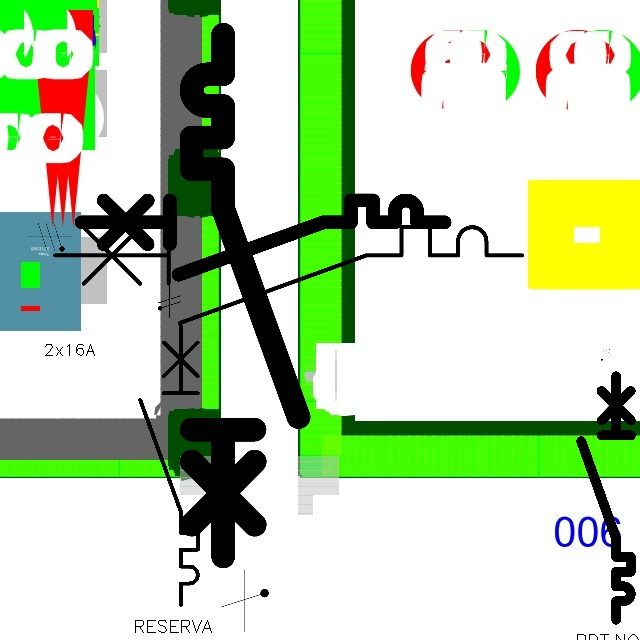interruptor_termomagnetico: (178, 21, 312, 570), (43, 215, 534, 335), (72, 191, 454, 284), (133, 318, 205, 612), (575, 369, 637, 625)
